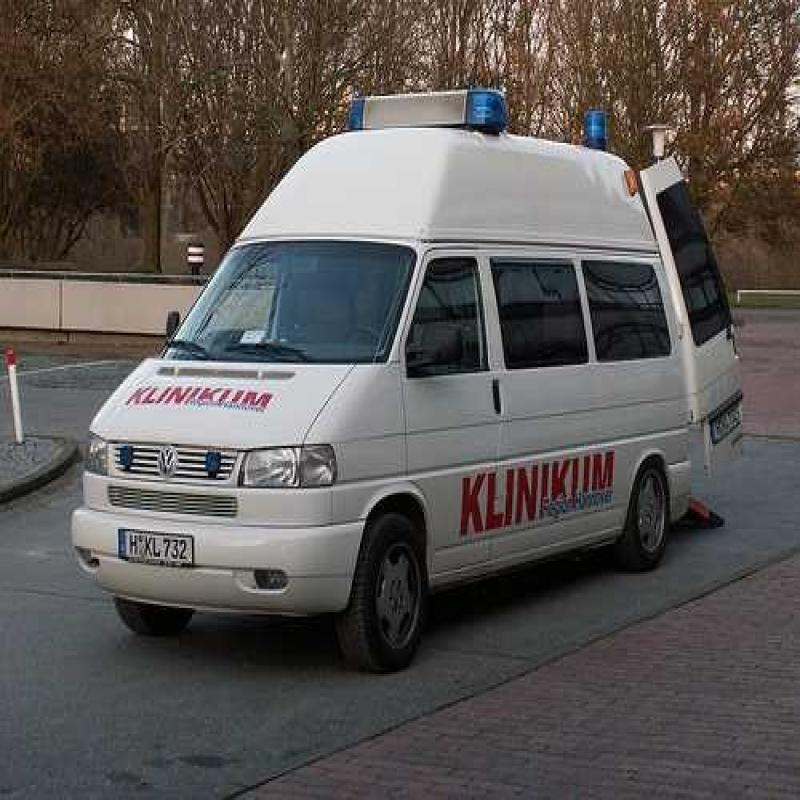AmbulanceSiren: (344, 75, 506, 134), (579, 106, 609, 168)
